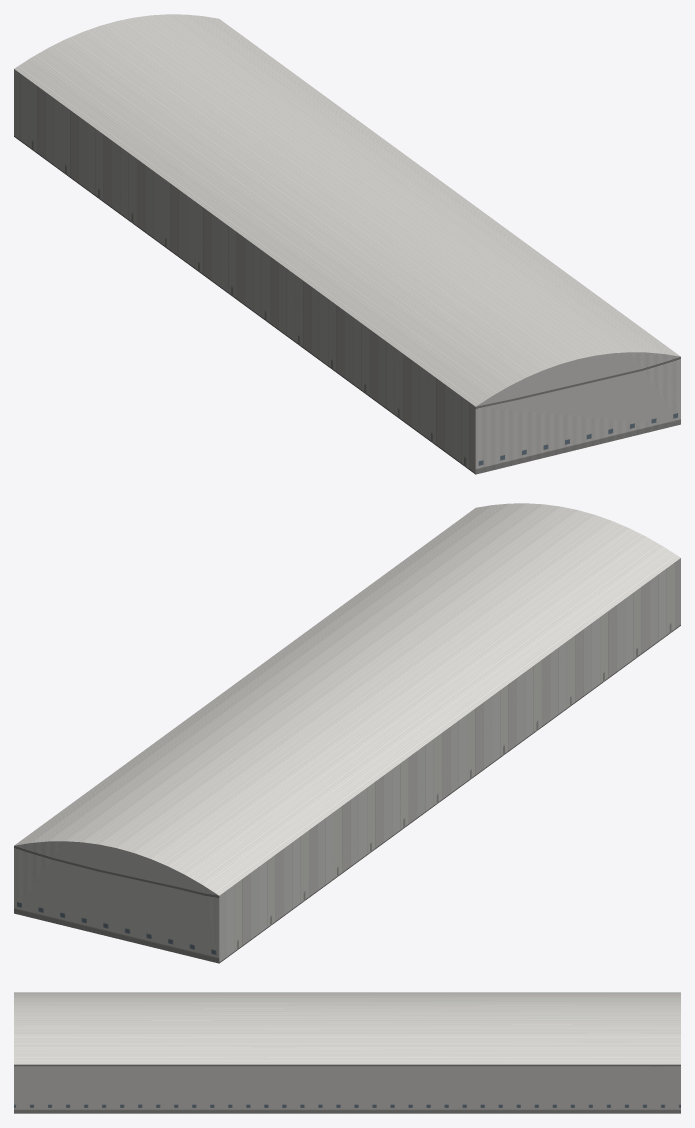
File: khua_hangar_57x222.glb
3 renders of one model, top to bottom at view 1: azimuth 30°, elevation 25°; view 2: azimuth 150°, elevation 25°; view 3: azimuth 270°, elevation 25°, orthographic. The views are drawn at different scales.
Visible parts, largest first — view 1: khua_hangar_57x222_hangar_roof, khua_hangar_57x222_hangar_door, khua_hangar_57x222_hangar_wall; view 2: khua_hangar_57x222_hangar_roof, khua_hangar_57x222_hangar_door, khua_hangar_57x222_hangar_wall; view 3: khua_hangar_57x222_hangar_roof, khua_hangar_57x222_hangar_wall.
Part boxes in pixels (<box>): khua_hangar_57x222_hangar_roof: <box>14,14,680,406</box>; khua_hangar_57x222_hangar_door: <box>14,69,475,474</box>; khua_hangar_57x222_hangar_wall: <box>475,352,680,474</box>; khua_hangar_57x222_hangar_roof: <box>14,503,680,895</box>; khua_hangar_57x222_hangar_door: <box>219,558,680,963</box>; khua_hangar_57x222_hangar_wall: <box>14,841,219,963</box>; khua_hangar_57x222_hangar_roof: <box>14,992,680,1064</box>; khua_hangar_57x222_hangar_wall: <box>14,1064,680,1113</box>.
Size of the model in its own units: 57 by 24 by 222.
3 materials, 3 textured.
